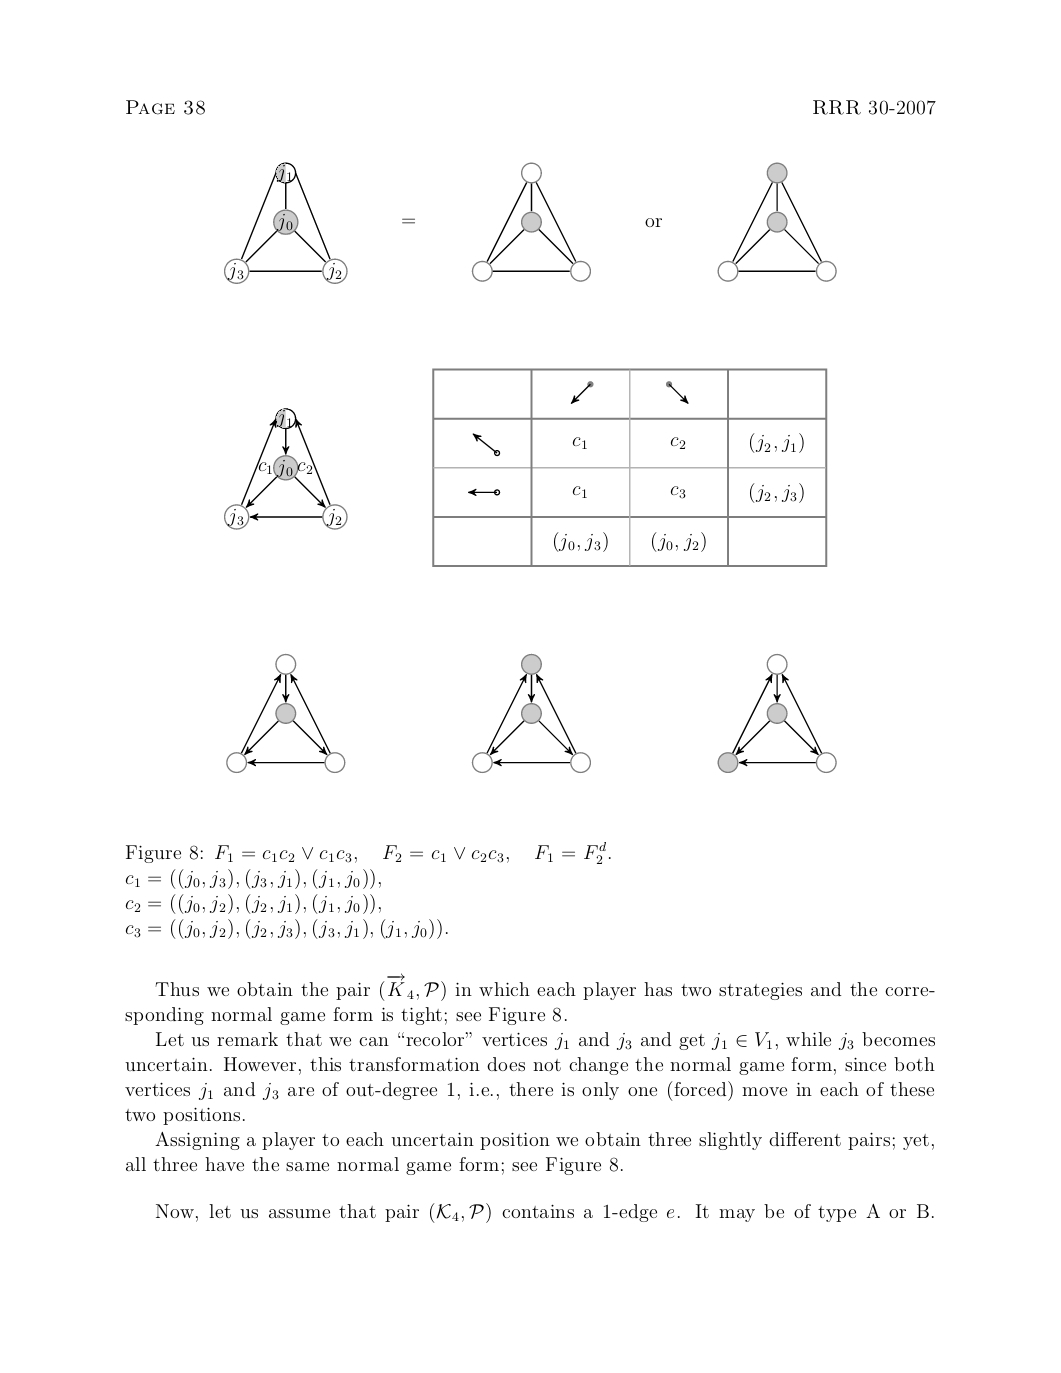figure: (432, 368, 827, 566), (224, 160, 836, 284), (224, 408, 347, 529), (226, 653, 345, 772), (717, 653, 836, 772), (471, 653, 590, 772)
formula: (125, 841, 610, 864), (125, 918, 447, 939), (125, 892, 380, 914), (125, 868, 380, 889)
